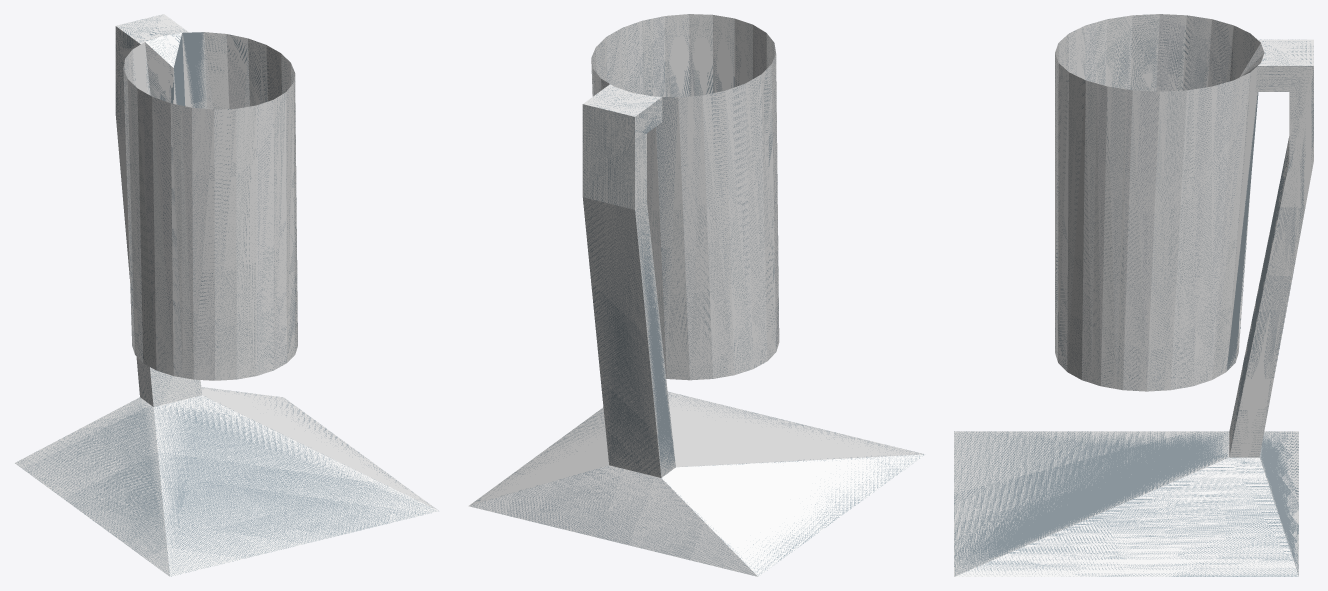
Rendered from bin.dae.
3 renders of one model, left to right at view 1: azimuth 30°, elevation 25°; view 2: azimuth 150°, elevation 25°; view 3: azimuth 270°, elevation 25°, orthographic. The views are drawn at different scales.
Parts seen in each view (by area): view 1: instance_0; view 2: instance_0; view 3: instance_0.
Boxes of the visible parts, bbox=[...] form: instance_0: bbox=[15, 14, 438, 576]; instance_0: bbox=[468, 14, 925, 576]; instance_0: bbox=[954, 14, 1313, 576].
Size of the model in its own units: 29.53 by 30.81 by 42.52.
